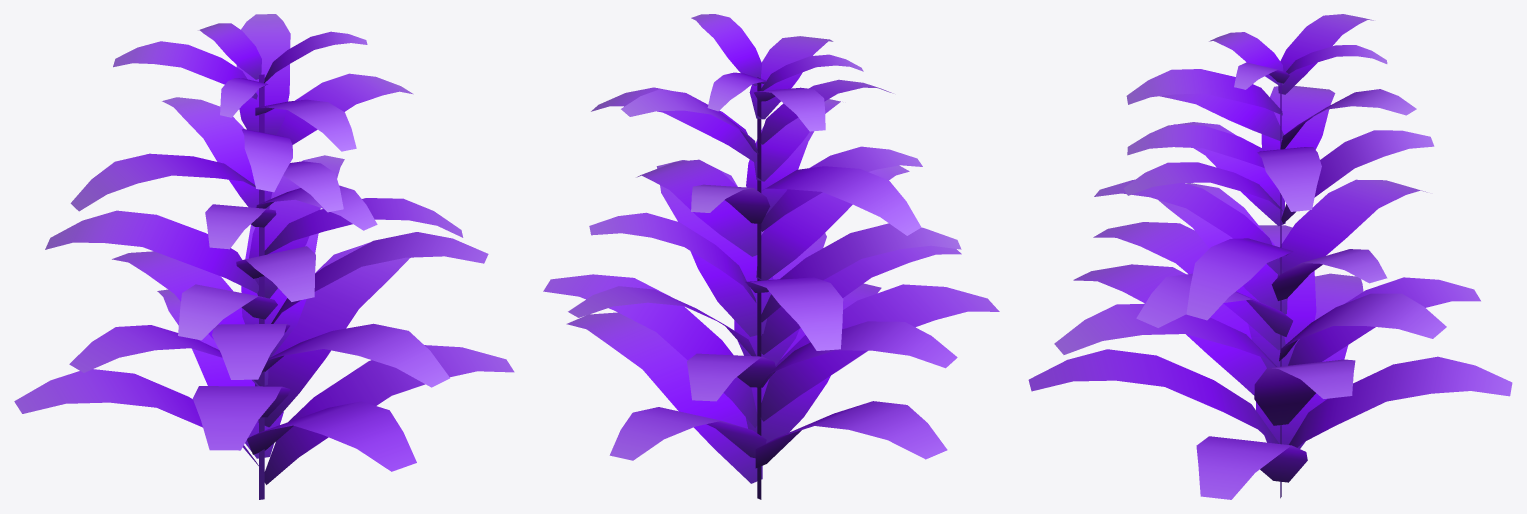
Rendered from plant_003.fbx.
The picture shows the model from 3 angles, left to right: view 1: azimuth 30°, elevation 25°; view 2: azimuth 150°, elevation 25°; view 3: azimuth 270°, elevation 25°; orthographic projection.
Visible parts, largest first — view 1: plant.003; view 2: plant.003; view 3: plant.003.
Boxes of the visible parts, x1,y1,x2,y2 form: plant.003: (14, 14, 514, 499); plant.003: (543, 14, 999, 499); plant.003: (1028, 14, 1512, 499).
Size of the model in its own units: 49.6 by 49.94 by 47.99.
